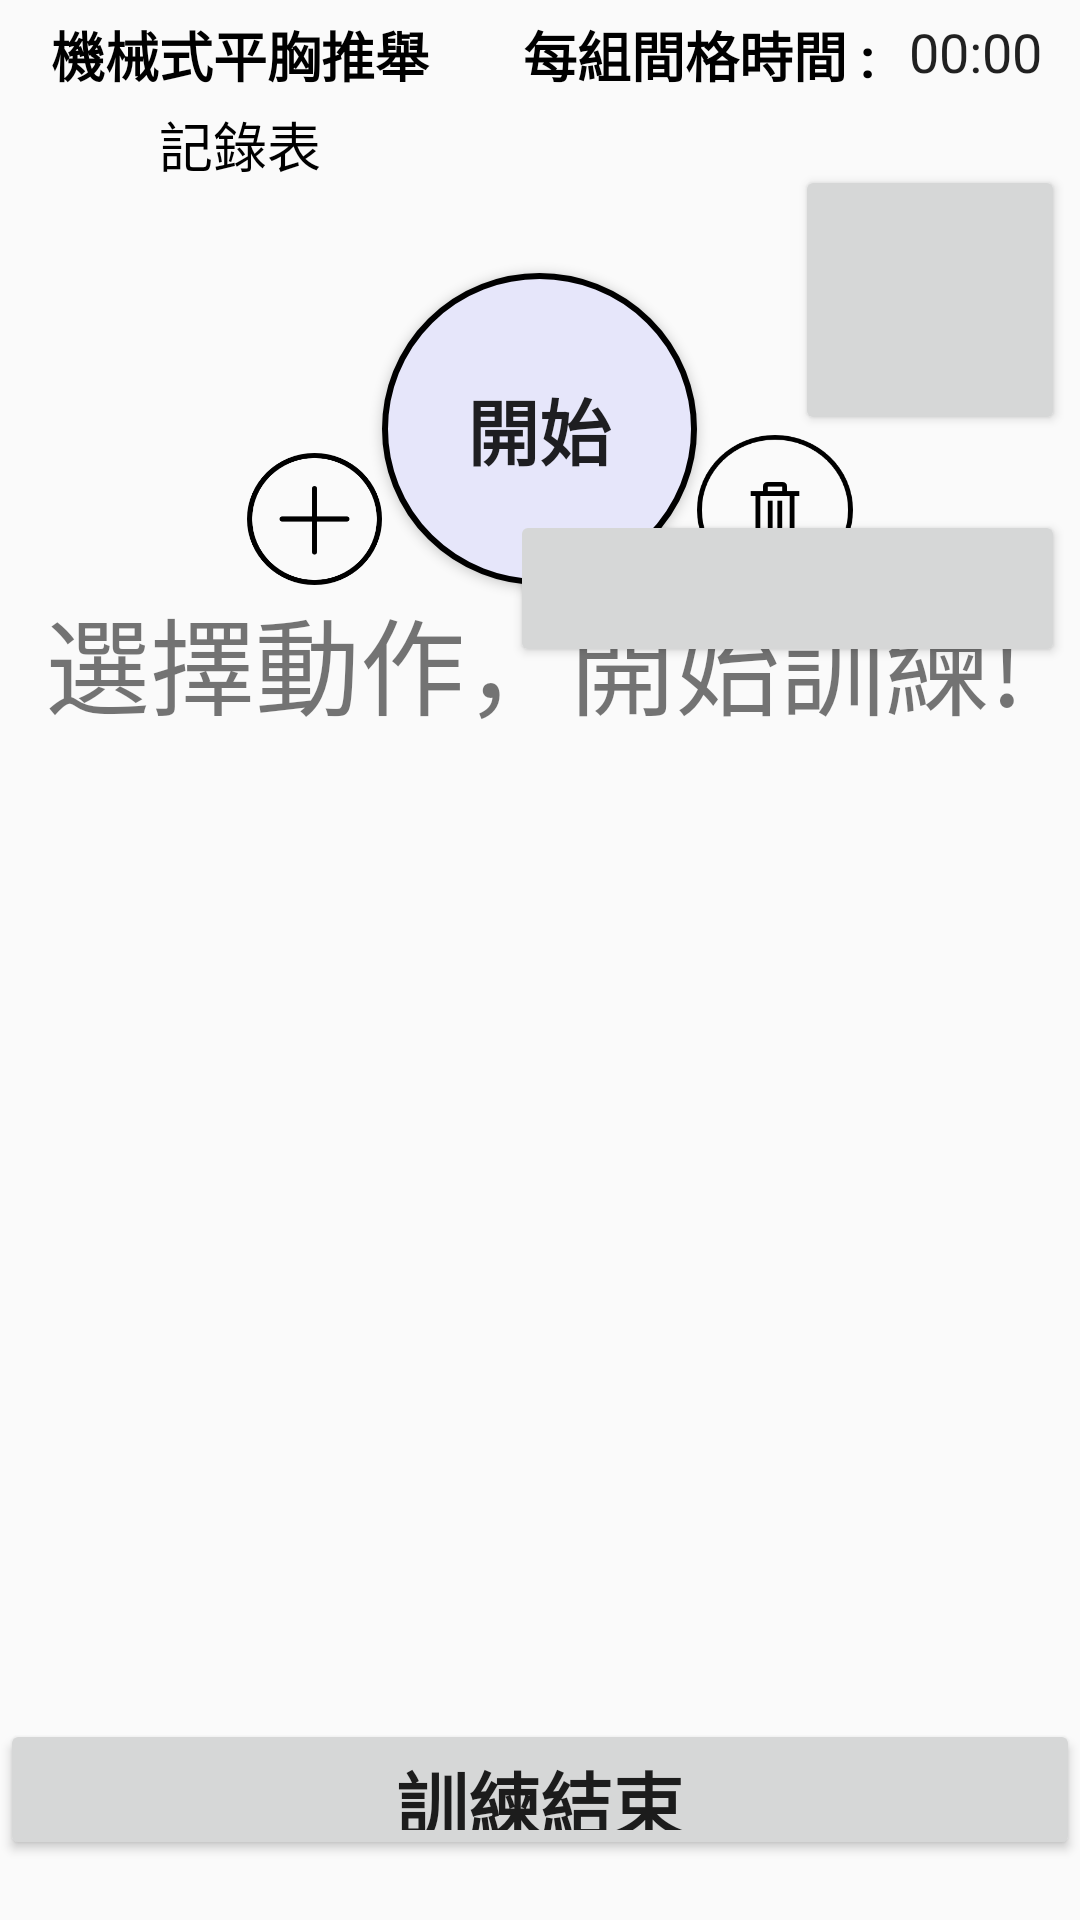

Icons on this 1080px×1920px Android screen, each with the point to tap as (x,y):
plus: (314,519)
